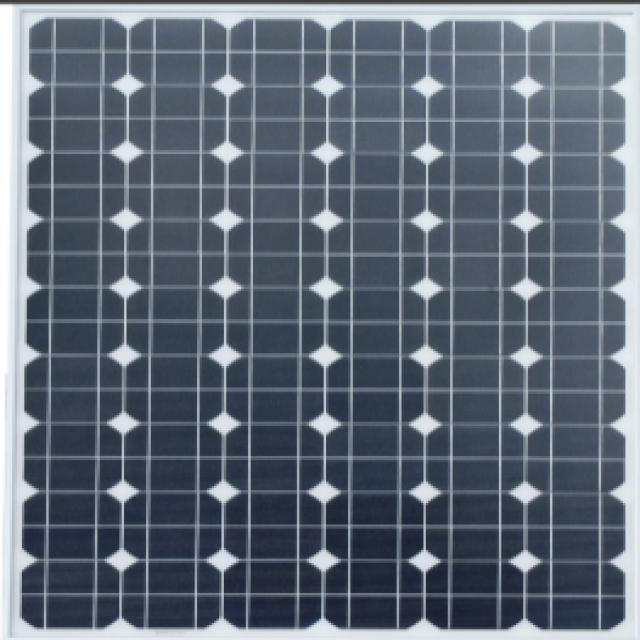clean-solar-panel: (21, 19, 627, 630)
